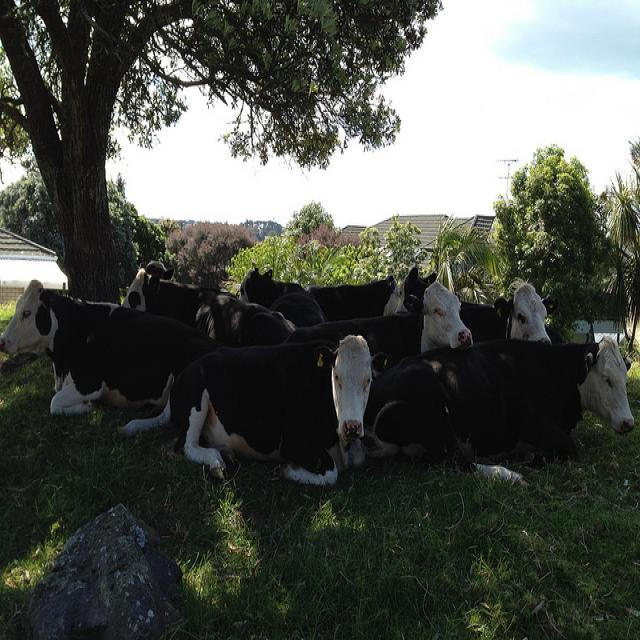cow: (117, 335, 385, 485), (352, 332, 634, 464), (0, 279, 175, 413), (282, 255, 470, 375), (118, 262, 296, 370), (457, 276, 558, 344), (235, 259, 323, 328), (307, 273, 396, 319)
